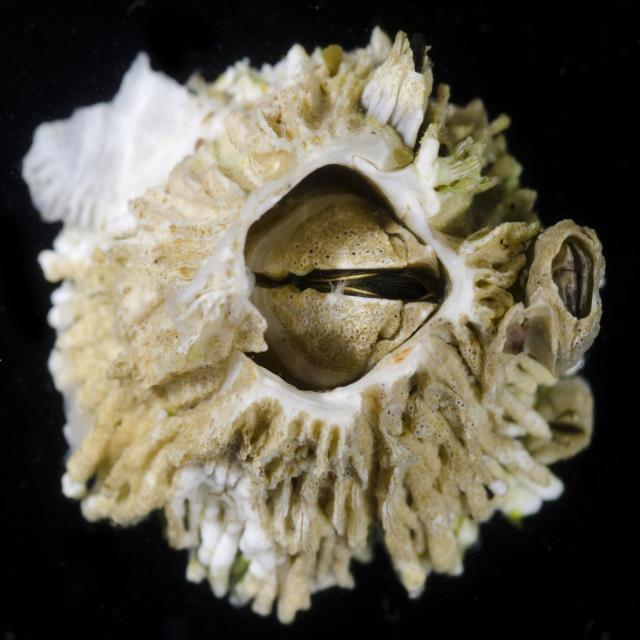barnacles: (17, 23, 615, 632), (525, 200, 610, 382)
